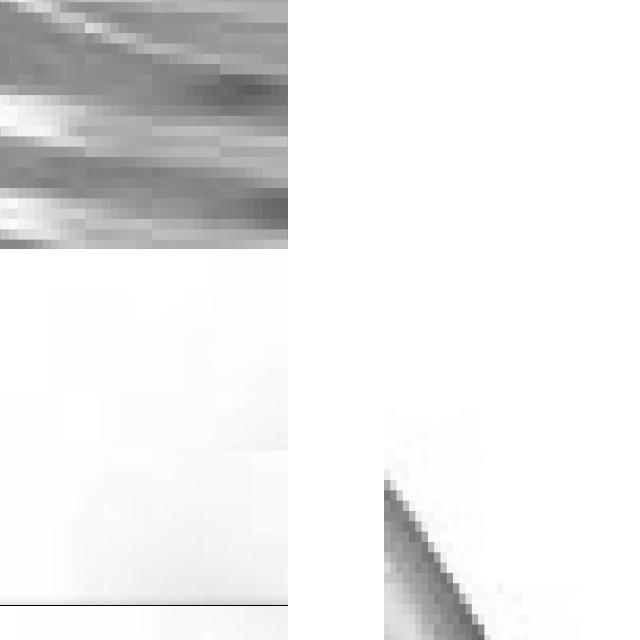forks: (0, 0, 288, 249)
spoons: (291, 285, 640, 640), (49, 360, 288, 640)
